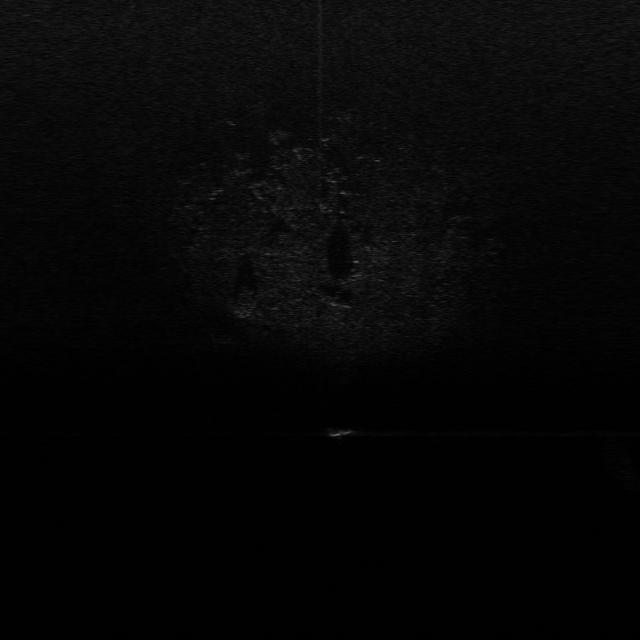square cage: (322, 425, 356, 438)
